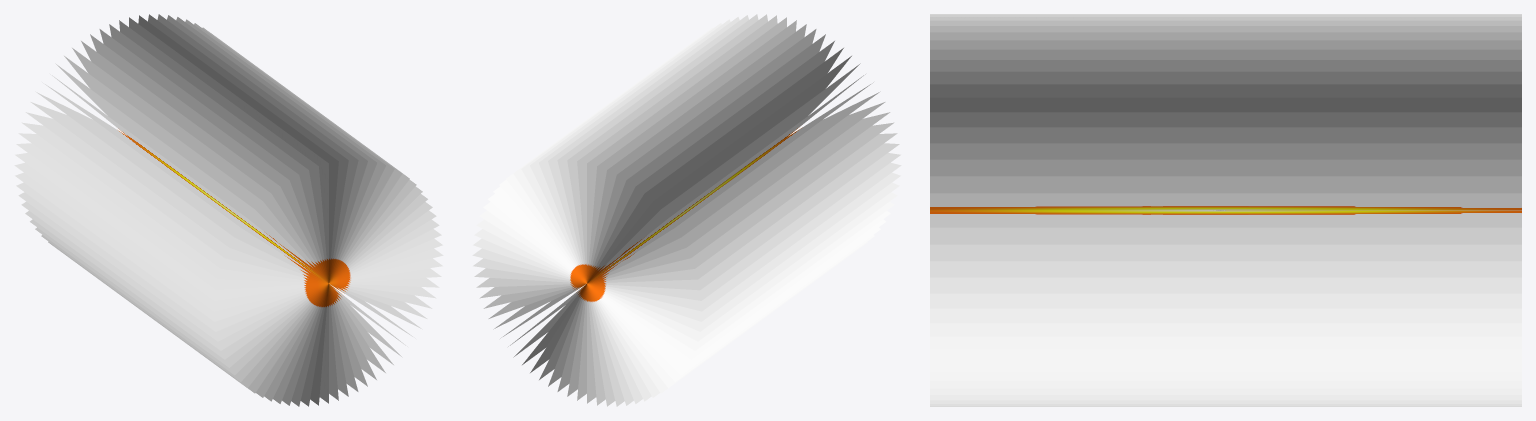
Rendered from laser.FBX.
The picture shows the model from 3 angles, left to right: view 1: azimuth 30°, elevation 25°; view 2: azimuth 150°, elevation 25°; view 3: azimuth 270°, elevation 25°; orthographic projection. The views are drawn at different scales.
Visible parts, largest first — view 1: Plane012; view 2: Plane012; view 3: Plane012.
Boxes of the visible parts, x1,y1,x2,y2 form: Plane012: (14, 14, 443, 406); Plane012: (472, 14, 901, 406); Plane012: (930, 14, 1521, 406).
Bounding box in the file's own units: 117 × 117 × 177.
1 material, 1 textured.
